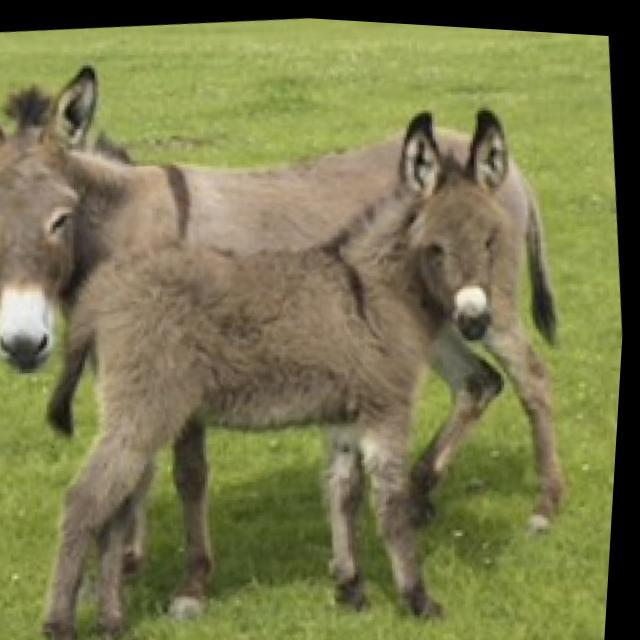Donkey: (0, 11, 597, 600)
